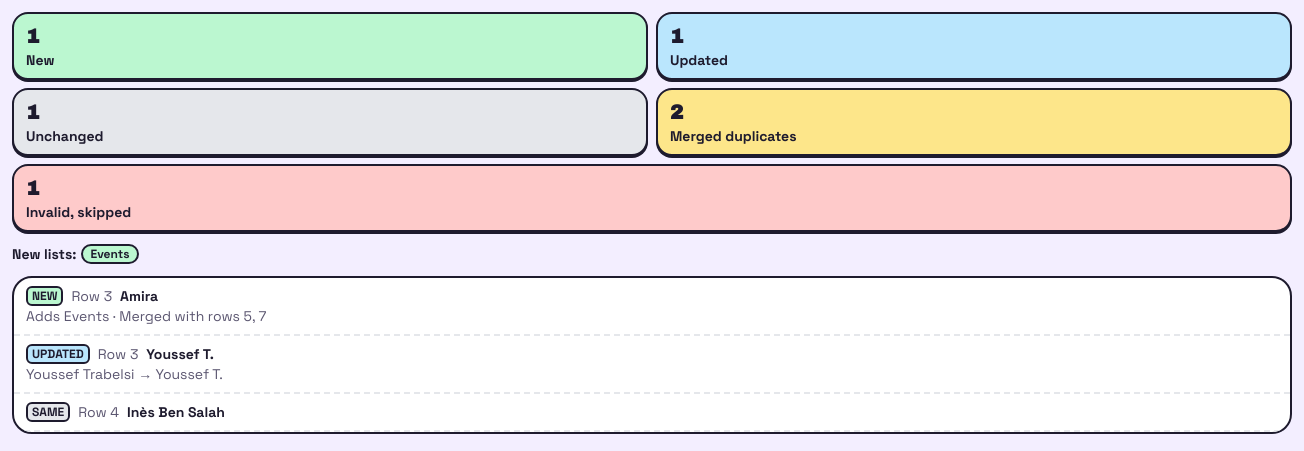
Test: PreviewStep › lists one line per merged row under Merged duplicates, matching the tile
The image size is (1304, 451).
Click the button "2 Merged duplicates".
click(733, 136)  # box x1=656 y1=88 x2=1292 y2=156
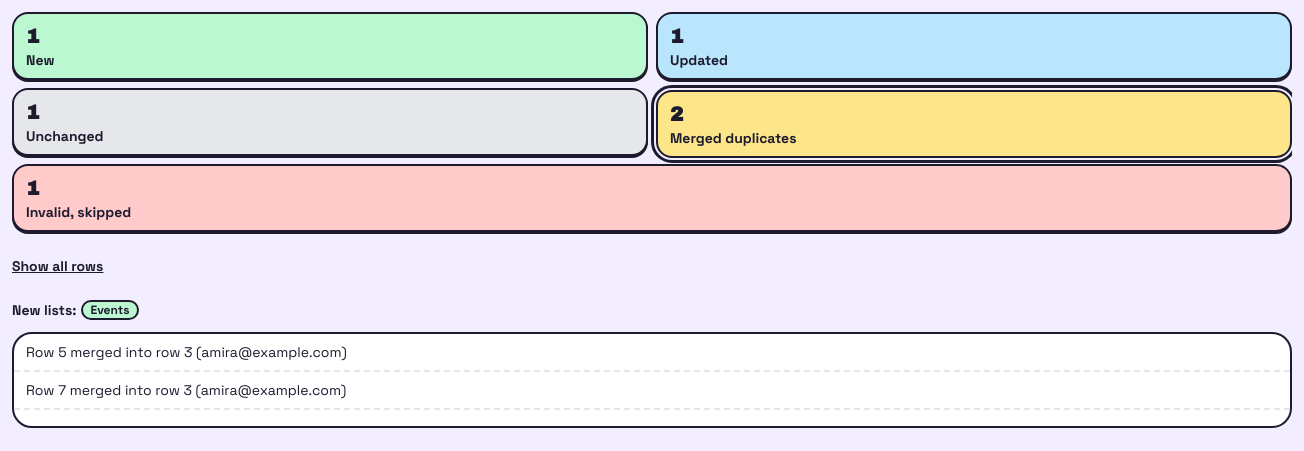
Now the number of list items is 2, box x1=14 y1=334 x2=1290 y2=372; x1=14 y1=372 x2=1290 y2=410
